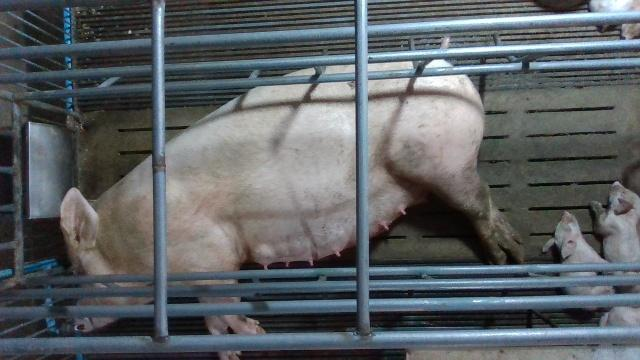piglet: (544, 211, 615, 311), (589, 179, 640, 291), (588, 0, 640, 39)
sow-sleep-lactate: (59, 58, 524, 360)
